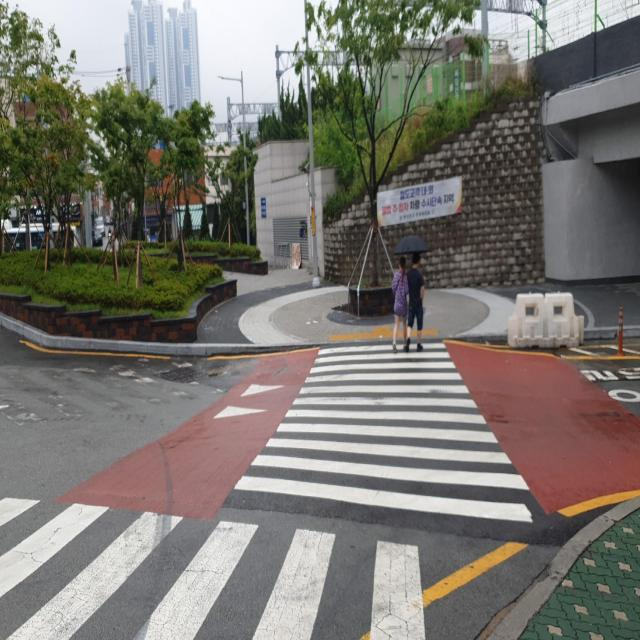횡단보도: (0, 495, 426, 639), (232, 340, 536, 530)
